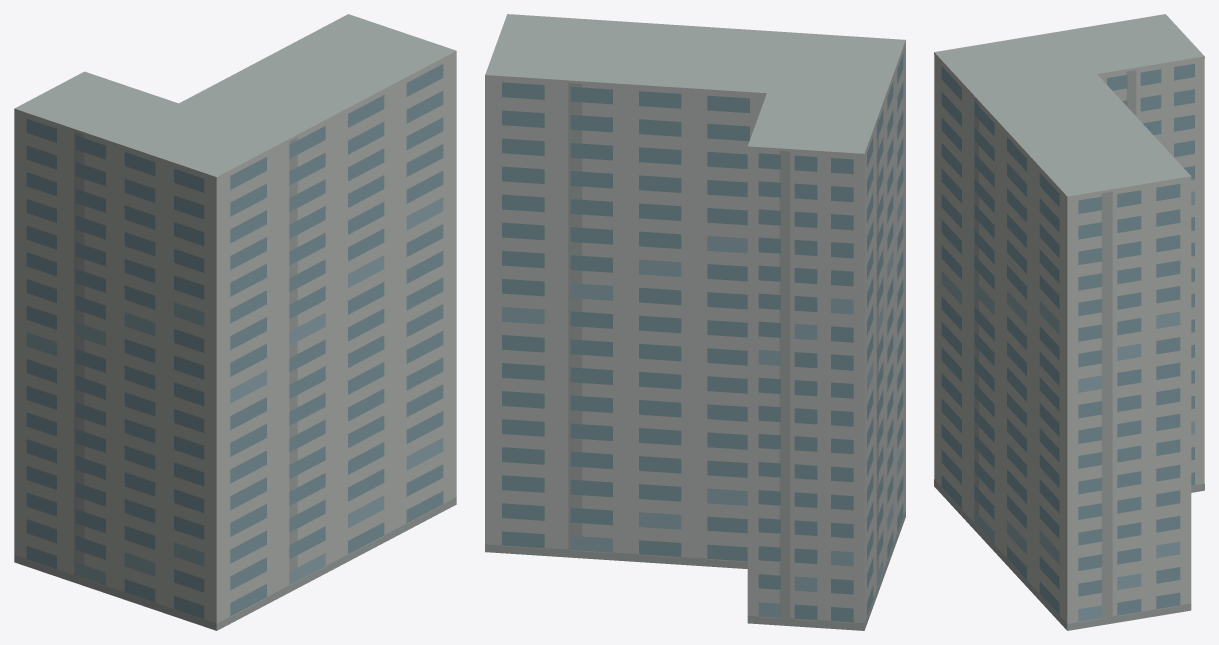
Rendered from residential-0b39fa33-b094-4fbb-bd30-33079fd06673.glb.
3 views of the same model, side by side, from view 1: azimuth 30°, elevation 25°; view 2: azimuth 150°, elevation 25°; view 3: azimuth 270°, elevation 25° (orthographic). The views are drawn at different scales.
Visible parts, largest first — view 1: residential-0b39fa33-b094-4fbb-bd30-33079fd06673.tmp; view 2: residential-0b39fa33-b094-4fbb-bd30-33079fd06673.tmp; view 3: residential-0b39fa33-b094-4fbb-bd30-33079fd06673.tmp.
Part boxes in pixels (bbox=[...]): residential-0b39fa33-b094-4fbb-bd30-33079fd06673.tmp: bbox=[14, 14, 456, 630]; residential-0b39fa33-b094-4fbb-bd30-33079fd06673.tmp: bbox=[485, 14, 905, 630]; residential-0b39fa33-b094-4fbb-bd30-33079fd06673.tmp: bbox=[934, 14, 1204, 630].
Size of the model in its own units: 40.6 by 45 by 25.43.
